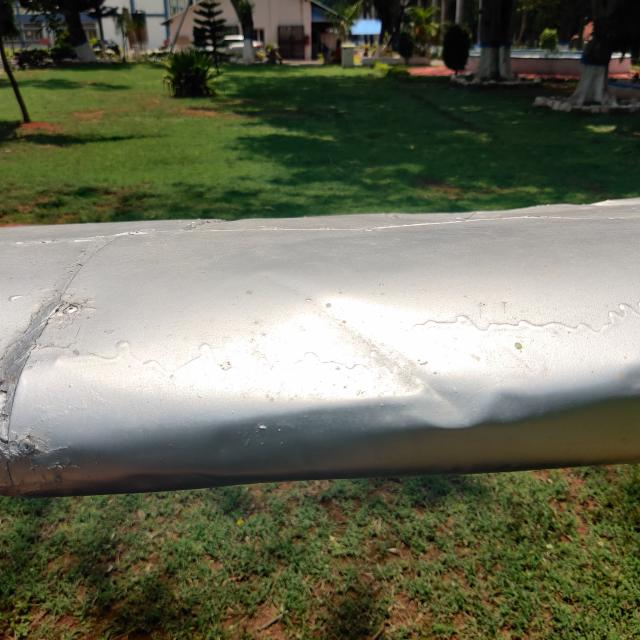dent: (290, 273, 548, 457)
